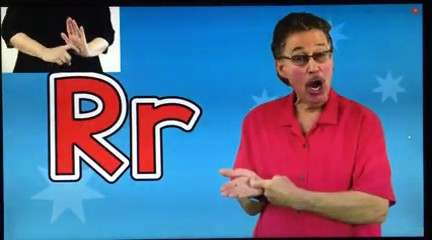R: (207, 158, 321, 219)
